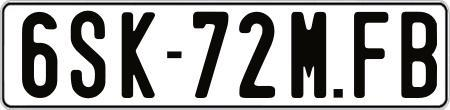2: (238, 11, 277, 99)
6: (22, 10, 58, 96)
7: (192, 11, 232, 99)
B: (400, 12, 434, 104)
F: (354, 12, 393, 103)
K: (121, 9, 156, 100)
M: (290, 11, 327, 100)
S: (71, 11, 111, 104)
